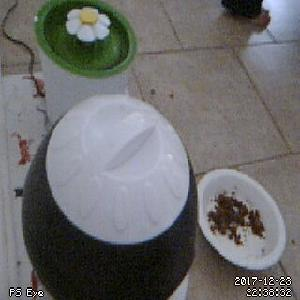fountain: (34, 1, 138, 79)
